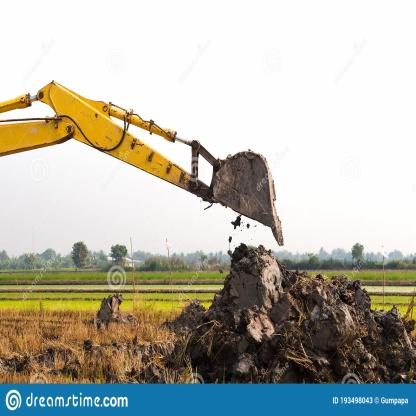excavator: (0, 75, 294, 255)
